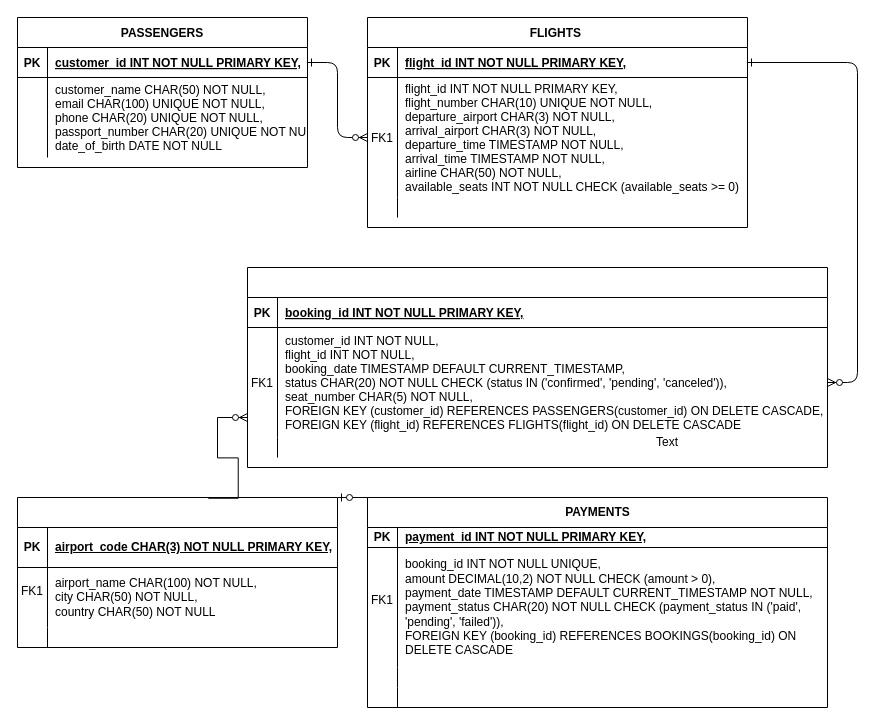
Image size: 884x725. Some labels were removed from this diagram. The box of each missing label's shape, as (x1, y1, x2, y2) in pixels:
AIRPORTS: (16, 496, 338, 648)
BOOKINGS: (246, 266, 828, 468)
